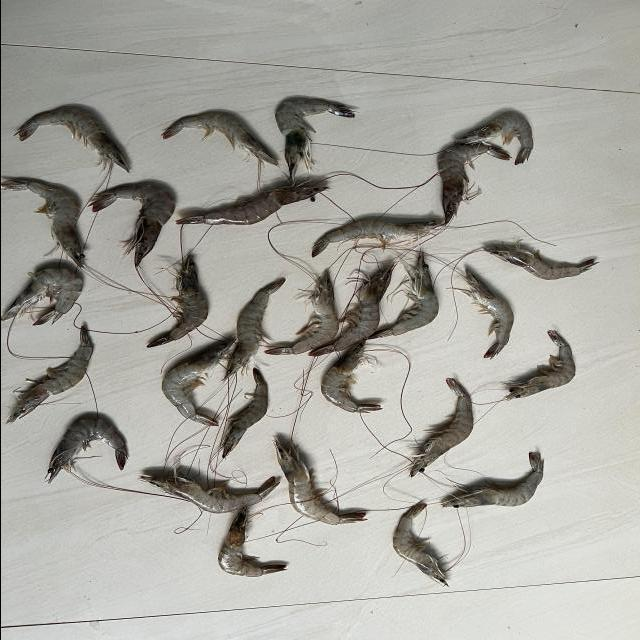shrimp: (5, 326, 92, 424), (308, 263, 396, 356), (274, 439, 366, 526), (13, 108, 128, 172), (0, 180, 83, 267), (88, 184, 174, 266), (275, 98, 354, 181), (223, 277, 285, 380), (161, 339, 234, 426), (175, 183, 328, 224), (410, 378, 473, 477), (264, 271, 338, 355), (161, 112, 278, 165), (368, 252, 439, 339), (438, 142, 510, 223), (442, 452, 544, 509), (138, 473, 279, 514), (449, 270, 514, 358), (146, 255, 207, 348), (503, 330, 576, 401), (46, 419, 126, 483), (311, 220, 445, 257), (217, 508, 285, 578), (0, 268, 81, 325), (393, 504, 448, 587), (321, 340, 382, 413), (221, 368, 268, 458), (455, 112, 533, 164), (484, 247, 598, 280)
